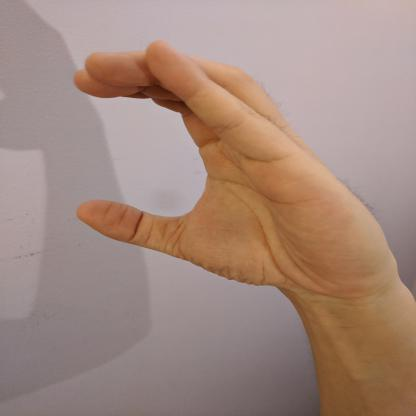C: (70, 38, 404, 301)
